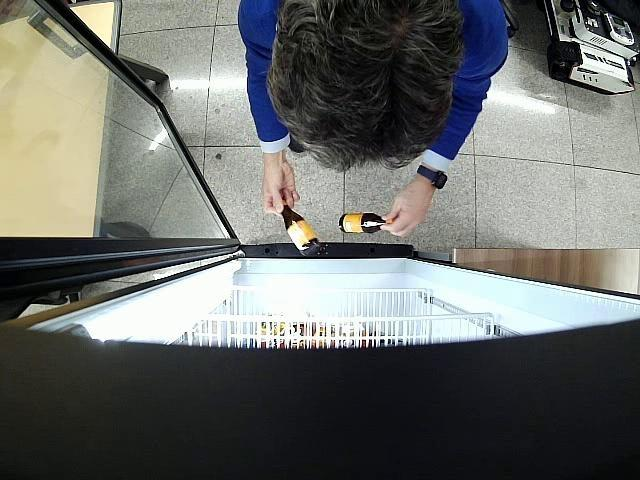17_vita500: (282, 202, 319, 256), (338, 213, 392, 232)
